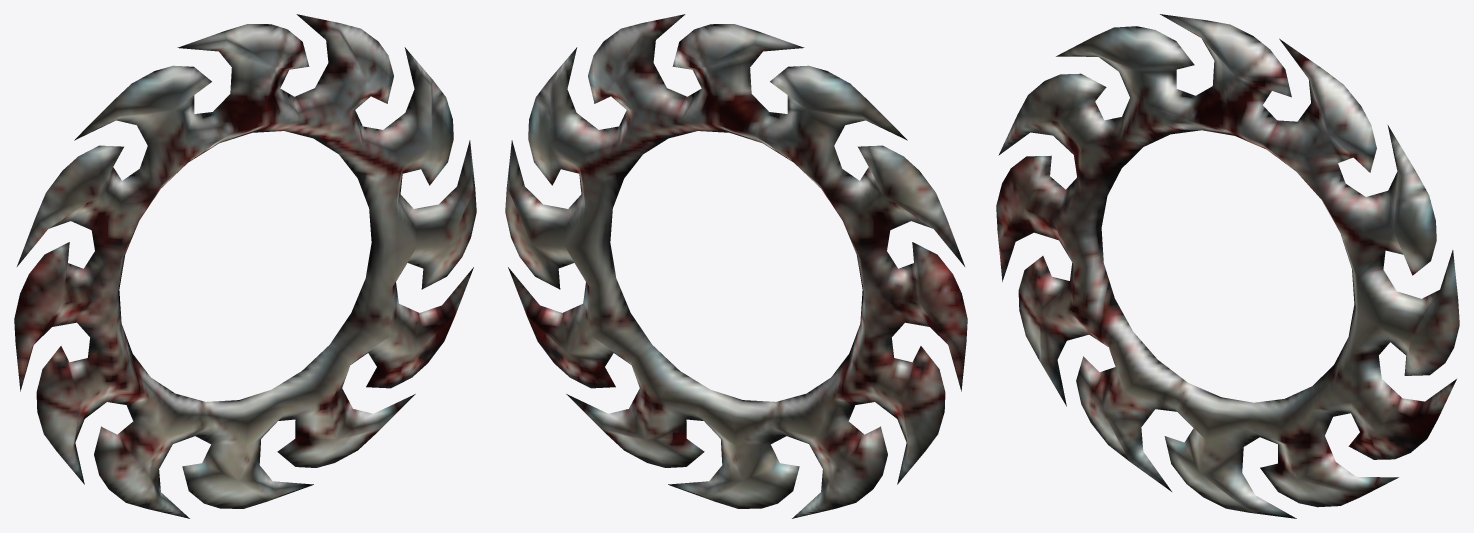
File: game.icn.obj
The picture shows the model from 3 angles, left to right: view 1: azimuth 30°, elevation 25°; view 2: azimuth 150°, elevation 25°; view 3: azimuth 330°, elevation 25°; orthographic projection.
Bounding box in the file's own units: 4.49 × 4.49 × 0.3589.
Materials: 1 (1 with a texture image).
